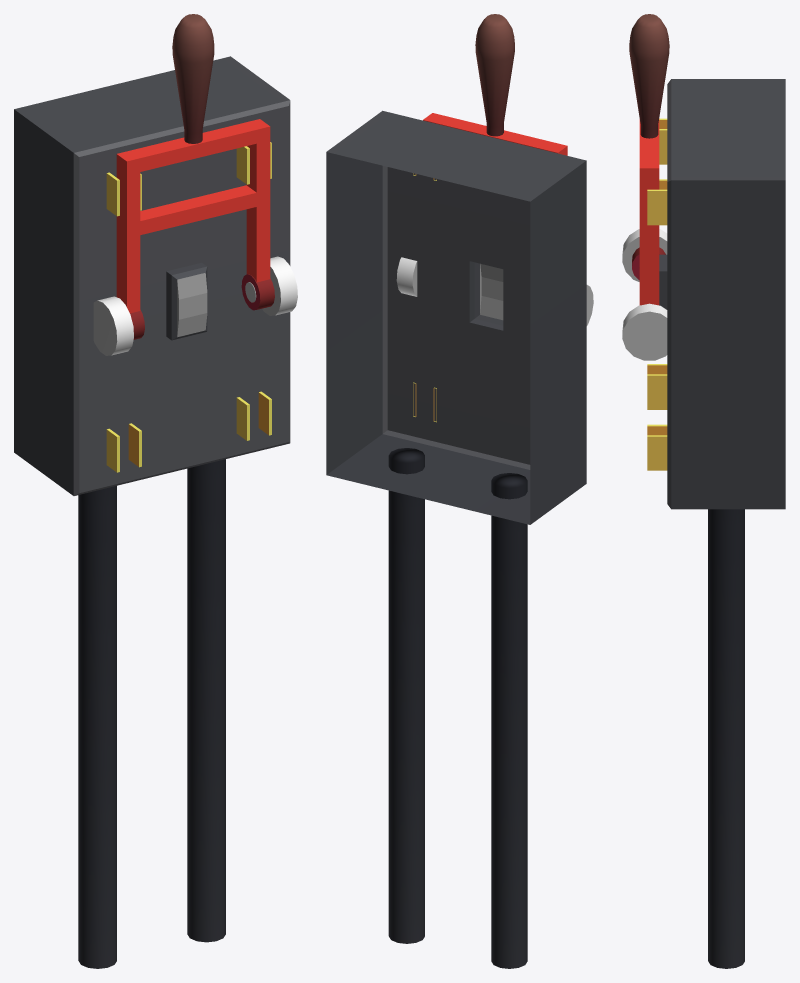
The model's file is Panel.fbx.
3 renders of one model, left to right at view 1: azimuth 30°, elevation 25°; view 2: azimuth 150°, elevation 25°; view 3: azimuth 270°, elevation 25°, orthographic. The views are drawn at different scales.
Parts seen in each view (by area): view 1: Panel, Handle; view 2: Panel, Handle; view 3: Panel, Handle.
Boxes of the visible parts, x1,y1,x2,y2 form: Panel: (14, 56, 297, 968); Handle: (116, 14, 274, 339); Panel: (326, 110, 593, 968); Handle: (423, 14, 567, 155); Panel: (622, 79, 785, 968); Handle: (629, 14, 669, 305).
Size of the model in its own units: 23.94 by 101 by 16.31.
